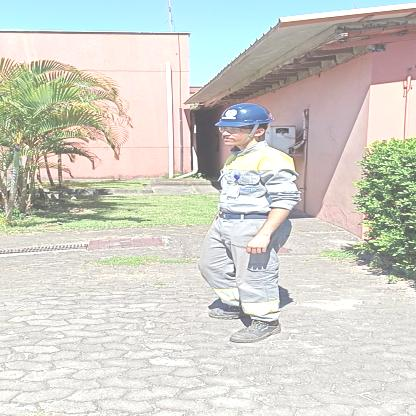Capacete: (219, 101, 269, 127)
